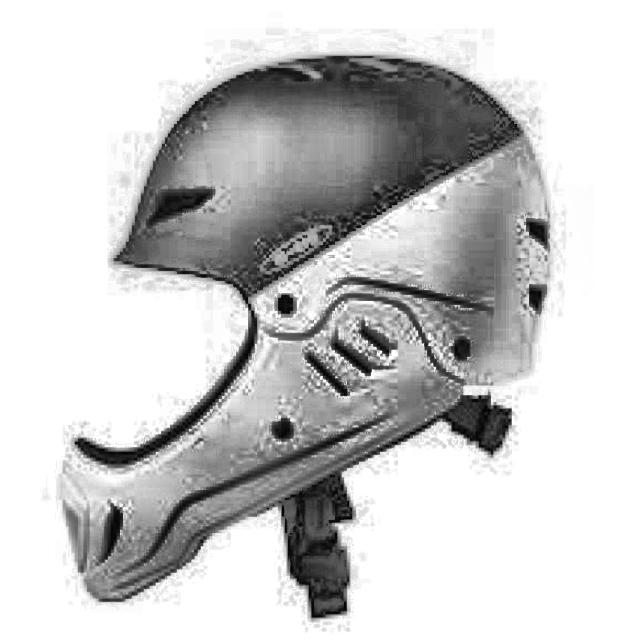Helmet: (52, 39, 560, 630)
